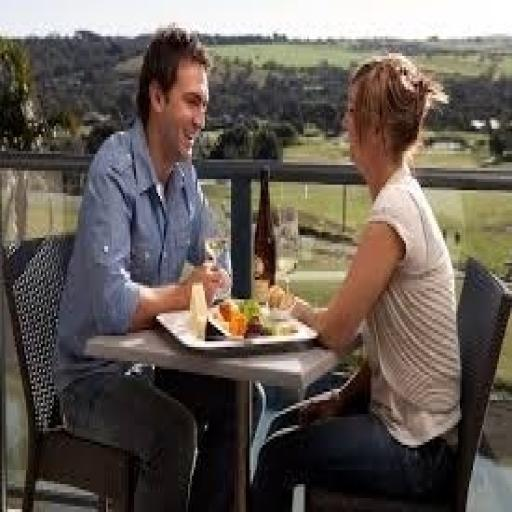eating: (50, 22, 466, 506), (50, 22, 233, 510)
